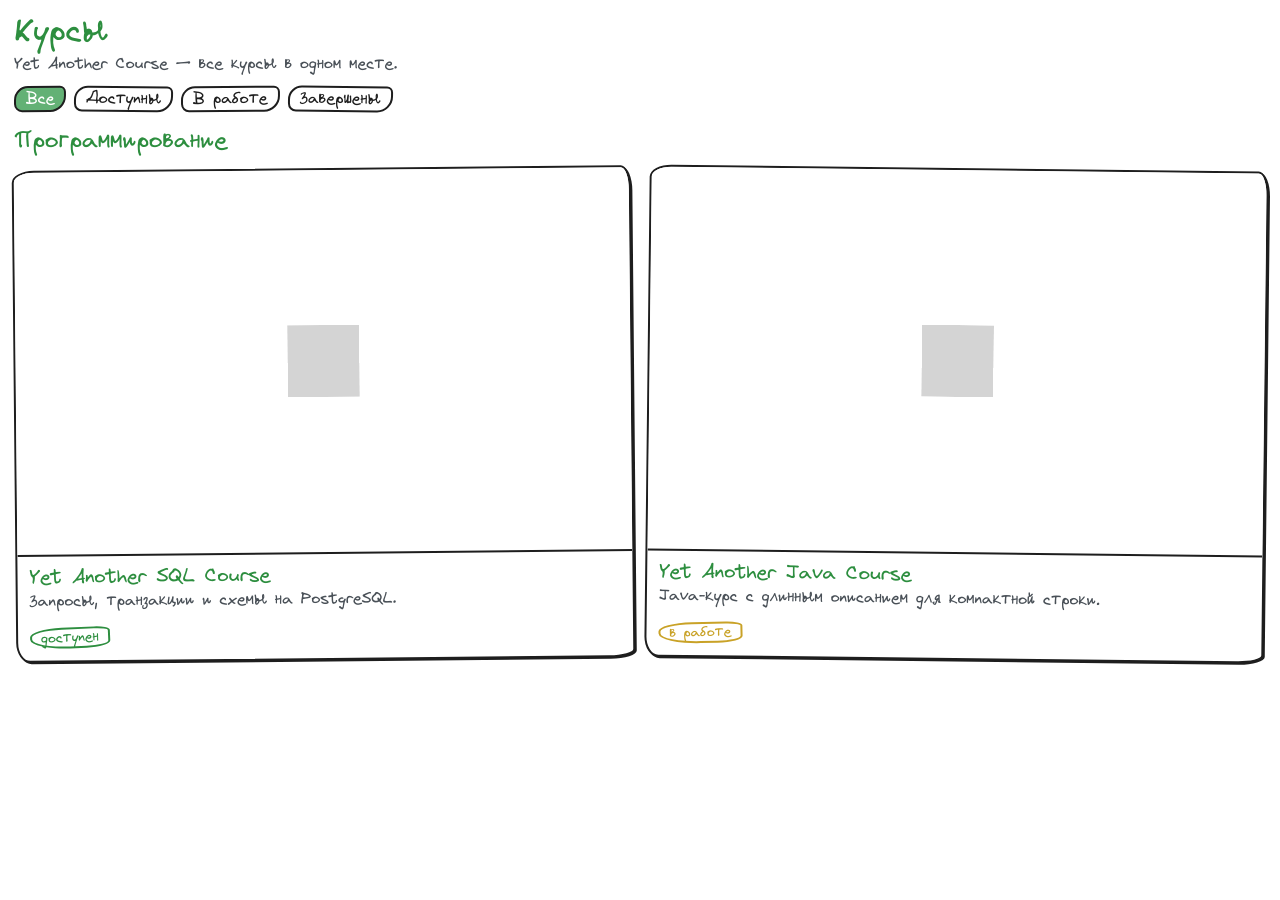
Test case: CoursesPage › filters by status without changing card layout
Click the button with class "filter" showing "В работе" at (231, 99), box [181, 86, 280, 113]
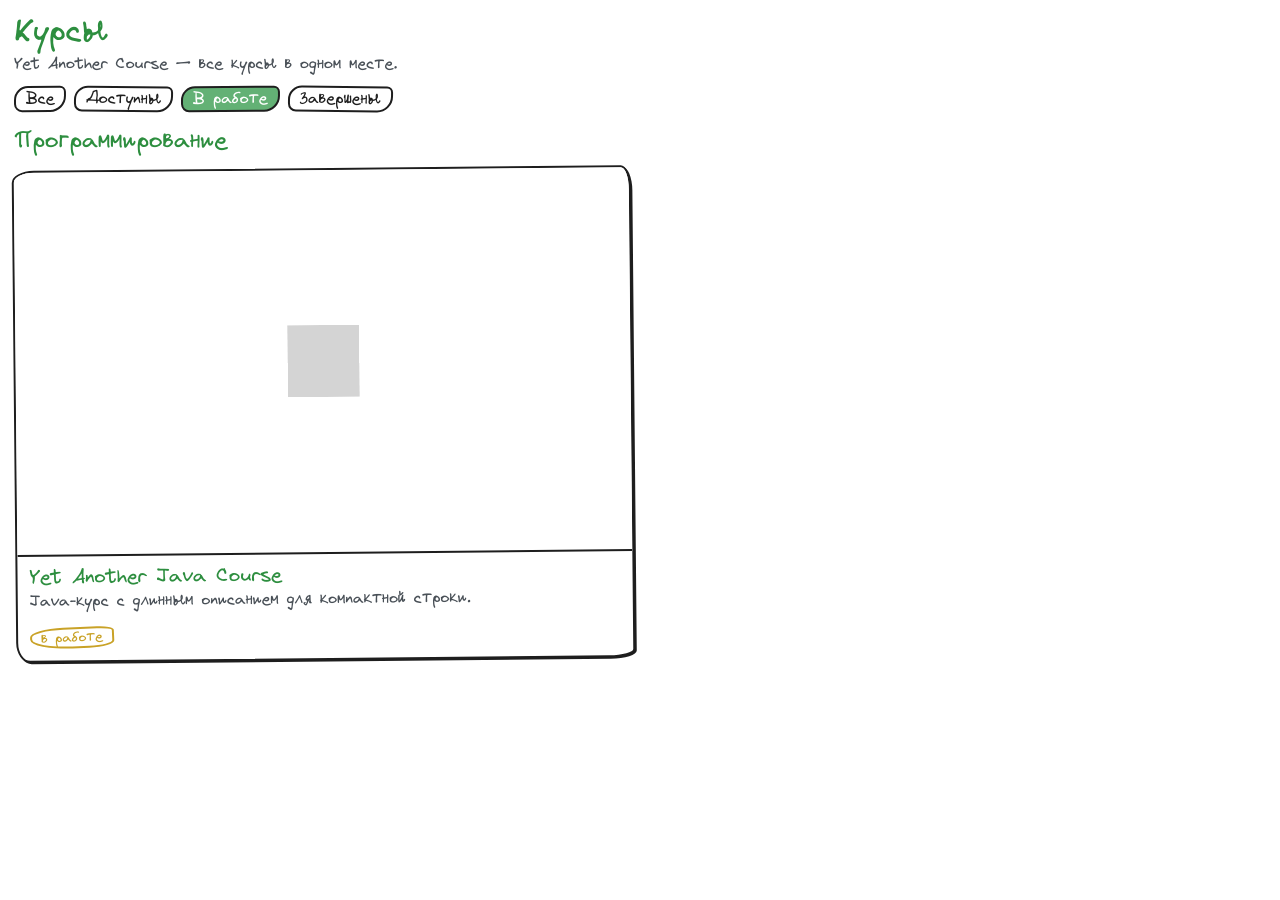
expect the link with class "ccard" shows "Yet Another Java Course": met, box [12, 165, 635, 664]
expect the number of links with class "ccard" is 1: met, box [12, 165, 635, 664]
Click the button with class "filter" showing "Доступны" at (124, 99), box [74, 86, 174, 113]
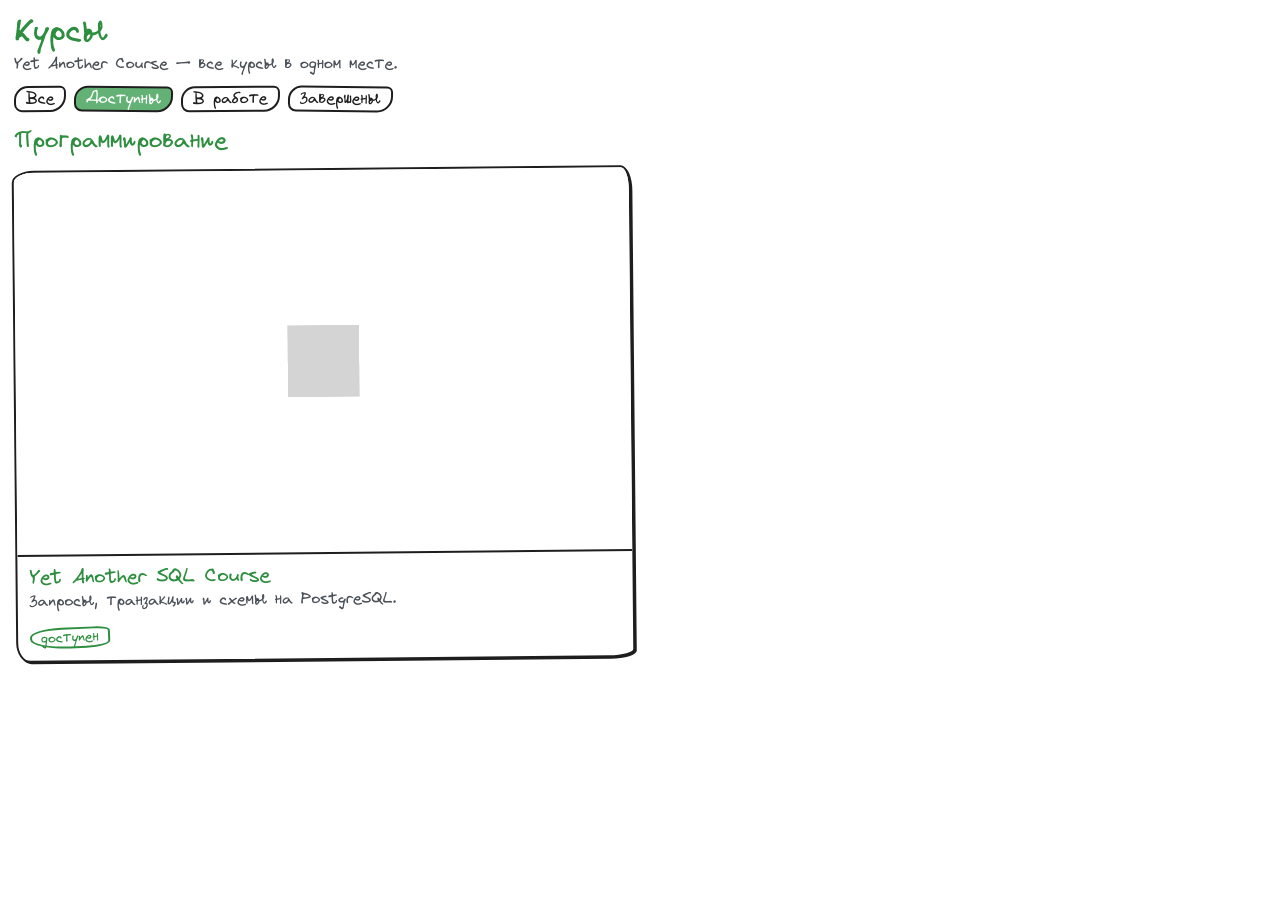
expect the link with class "ccard" shows "Yet Another SQL Course": met, box [12, 165, 635, 664]
